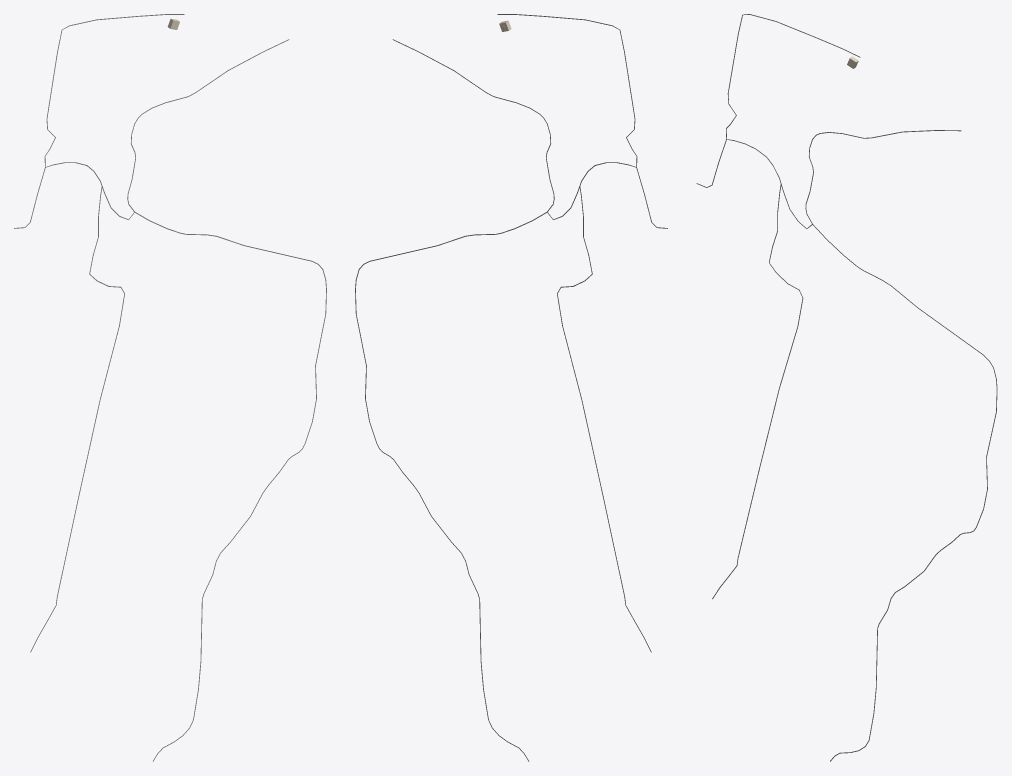
Rendered from historic-palestine-14_33_3564_3276.glb.
The picture shows the model from 3 angles, left to right: view 1: azimuth 30°, elevation 25°; view 2: azimuth 150°, elevation 25°; view 3: azimuth 330°, elevation 25°; orthographic projection. The views are drawn at different scales.
Visible parts, largest first — view 1: Road, Road .003; view 2: Road, Road .003; view 3: Road, Road .003.
Boxes of the visible parts, <box> form: Road: <box>127,39,326,761</box>; Road .003: <box>30,187,124,652</box>; Road: <box>355,39,554,761</box>; Road .003: <box>557,186,651,652</box>; Road: <box>805,130,997,761</box>; Road .003: <box>712,184,803,599</box>.
Bounding box in the file's own units: 498 × 1151 × 8.7.
